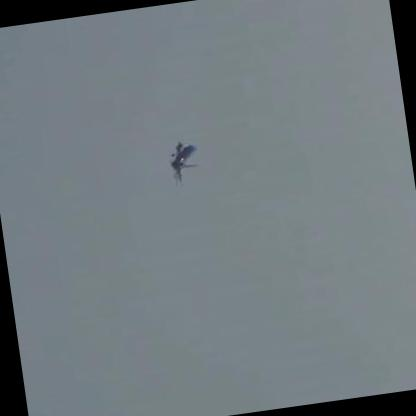plane: (165, 137, 202, 187)
